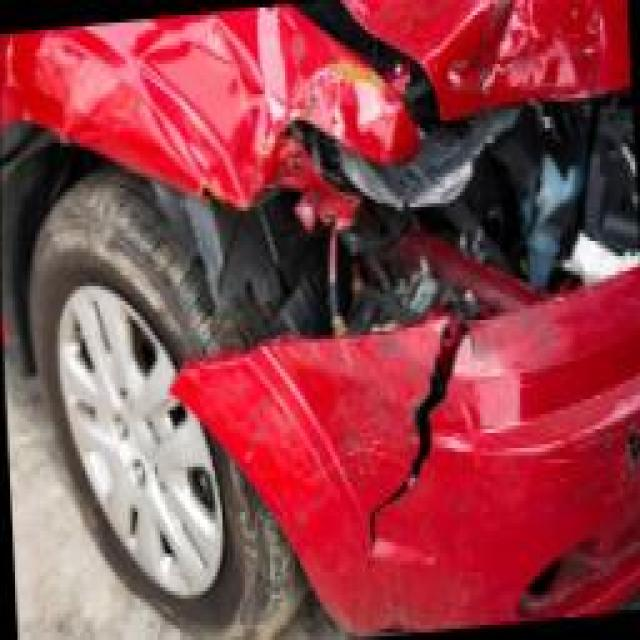Bumper: (171, 236, 640, 637)
Fender: (0, 5, 361, 235)
Light: (291, 83, 639, 262)
